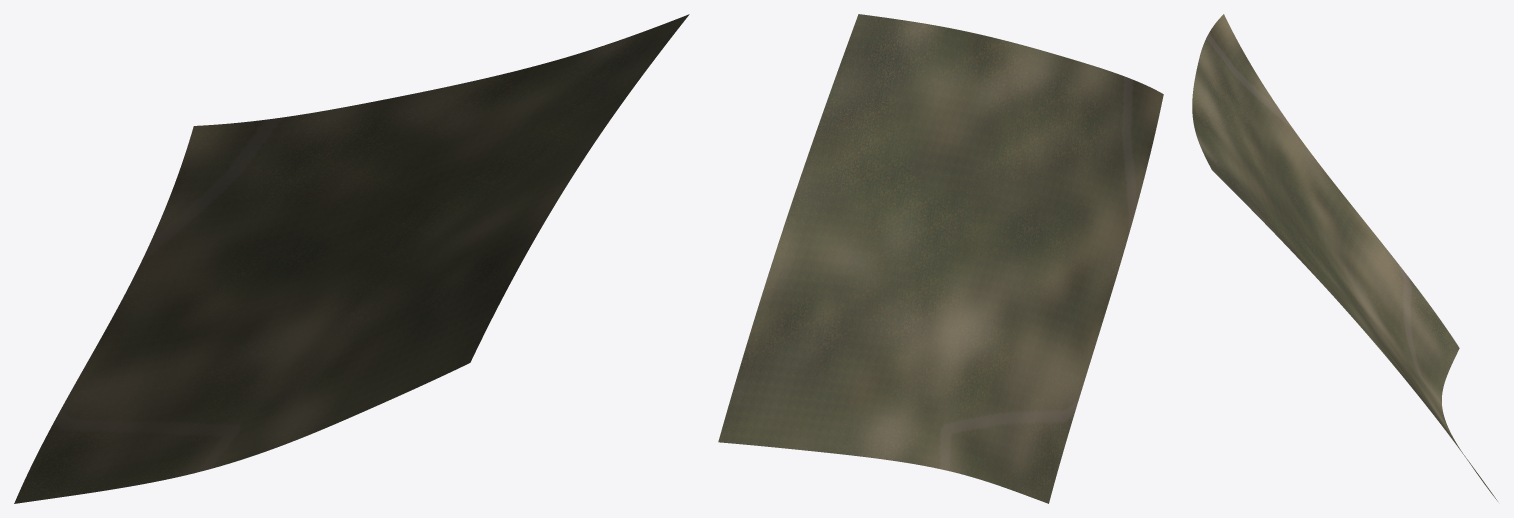
The model's file is ground_core_01_07.obj.
The picture shows the model from 3 angles, left to right: view 1: azimuth 30°, elevation 25°; view 2: azimuth 150°, elevation 25°; view 3: azimuth 270°, elevation 25°; orthographic projection. The views are drawn at different scales.
Visible parts, largest first — view 1: ground_core_01_07; view 2: ground_core_01_07; view 3: ground_core_01_07.
Boxes of the visible parts, bbox=[...] form: ground_core_01_07: bbox=[14, 14, 689, 503]; ground_core_01_07: bbox=[718, 14, 1163, 503]; ground_core_01_07: bbox=[1192, 14, 1497, 501].
Size of the model in its own units: 50 by 50 by 41.7.
1 material, 1 textured.
